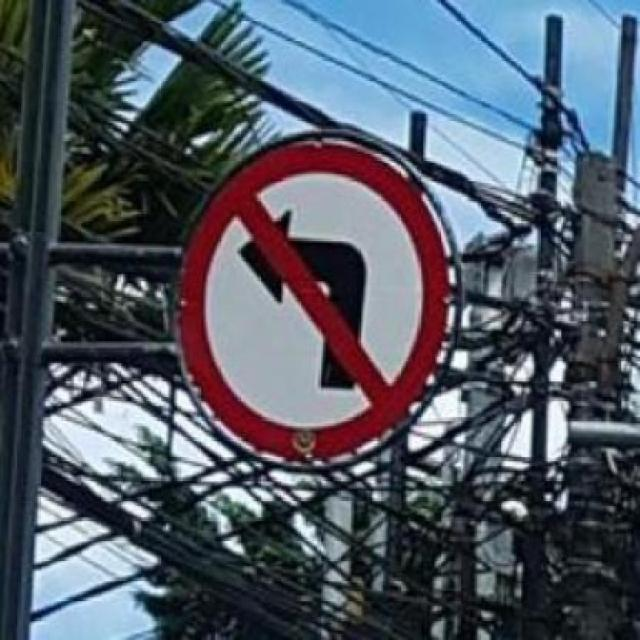left turn prohibited: (180, 141, 451, 460)
